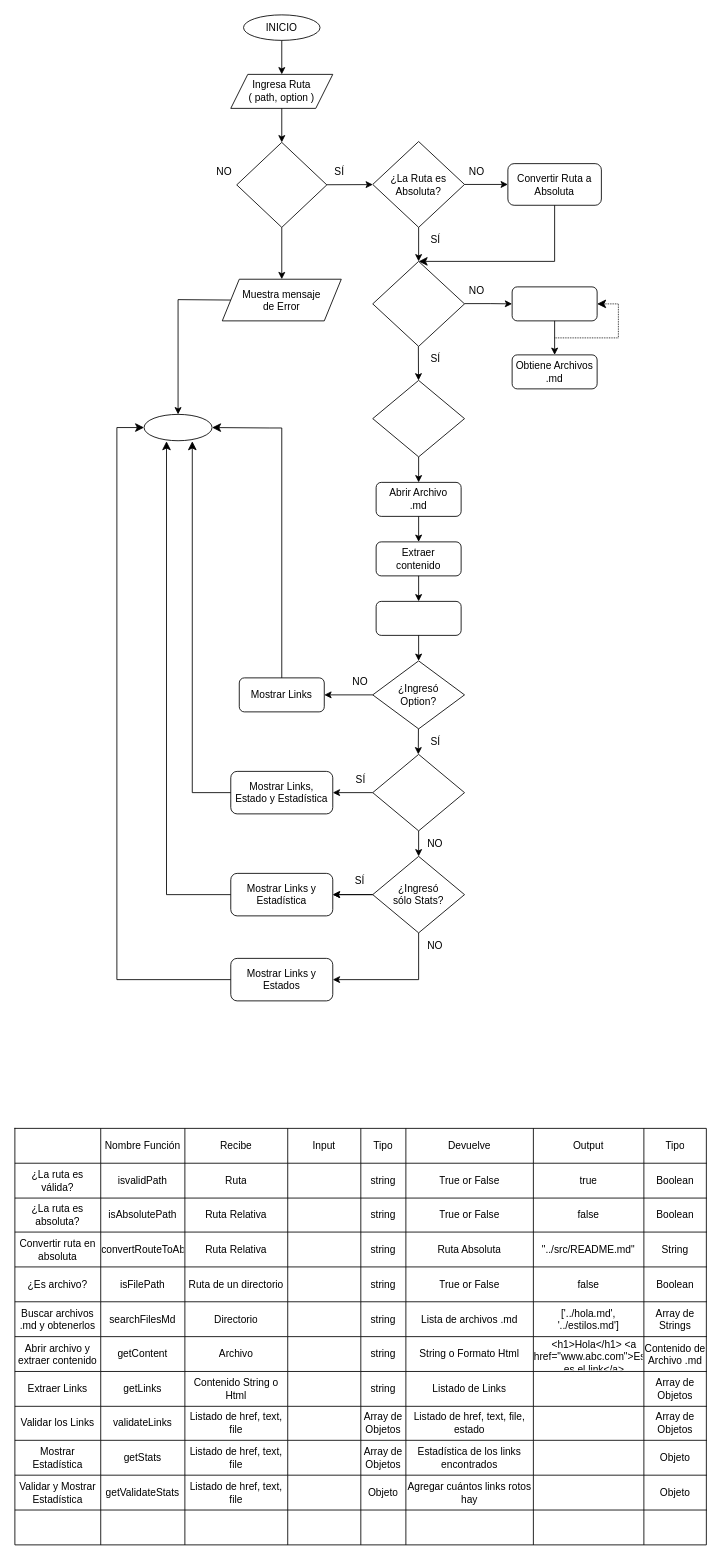
The diagram is 722 pixels wide and 1560 high, and some of its shapes have lost their labels. Each missing label, with the centre of its shape:
Busca Archivos .md: [554,303]
FIN: [177,427]
La Ruta es Valida?: [281,184]
Obtener links: [418,618]
¿Es Ruta de un archivo?: [418,303]
¿Es un archivo .md?: [418,418]
¿Ingresó Validate y Stats?: [418,792]
